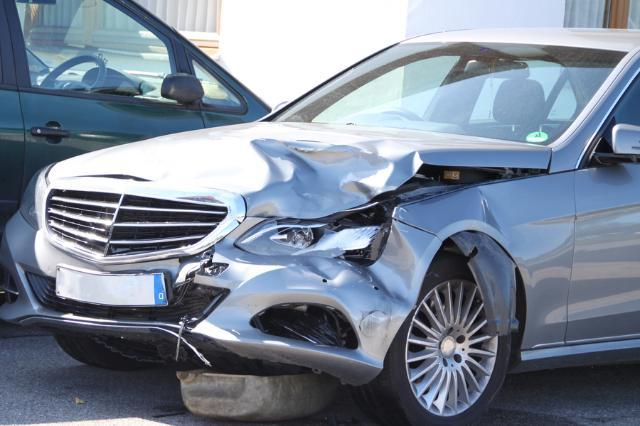Bonnet: (217, 118, 496, 212)
Bumper: (153, 237, 415, 369)
Fender: (414, 176, 575, 284)
Light: (240, 207, 393, 262)
